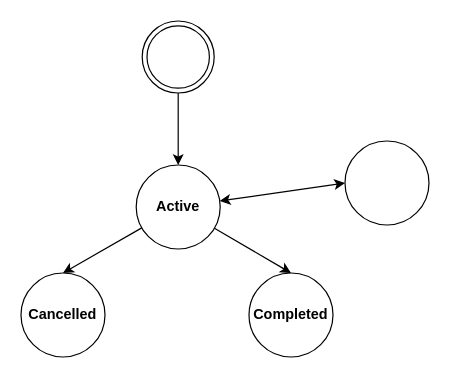
The diagram is 450 pixels wide and 378 high, and some of its shapes have lost their labels. The shapes that lost their labels are listed below. From the top down, each one's centre as x and y in pixels, then its label:
At point (177, 56): "Draft".
At point (386, 182): "On-hold".
